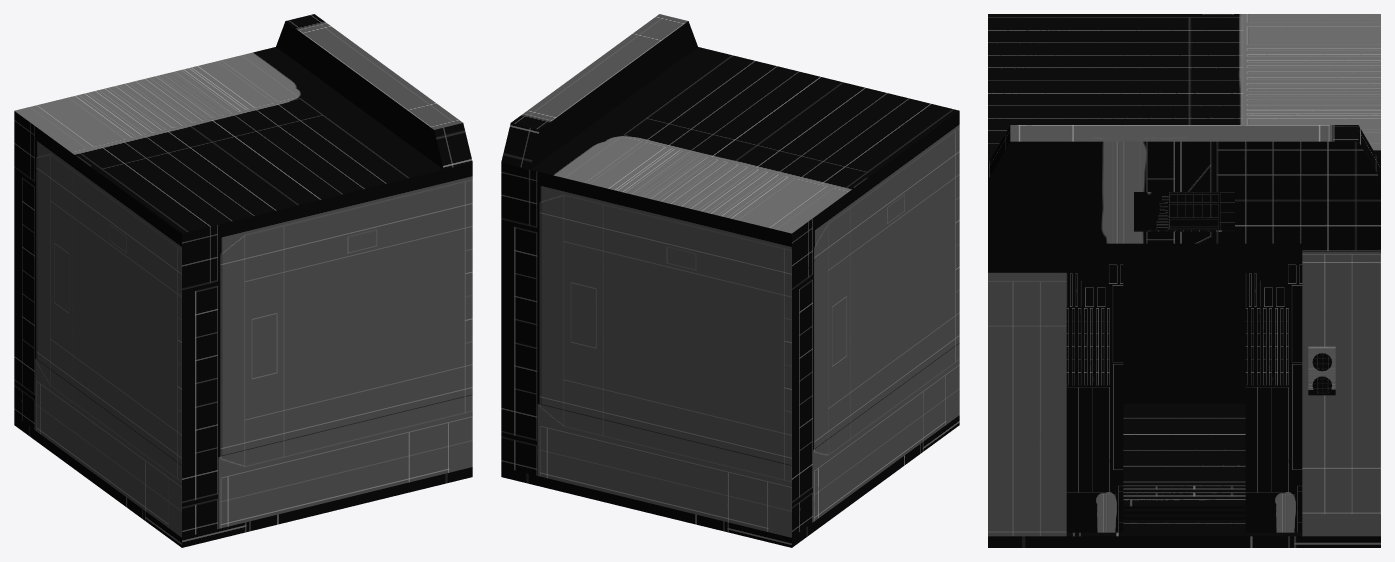
The model's file is Lift.fbx.
3 renders of one model, left to right at view 1: azimuth 30°, elevation 25°; view 2: azimuth 150°, elevation 25°; view 3: azimuth 270°, elevation 25°, orthographic. The views are drawn at different scales.
Visible parts, largest first — view 1: Lift; view 2: Lift; view 3: Lift.
Part boxes in pixels (x1,y1,x2,y2): Lift: (14, 14, 472, 547); Lift: (501, 14, 959, 547); Lift: (988, 14, 1380, 547).
Bounding box in the file's own units: 203 × 228 × 200.
1 material, 1 textured.
